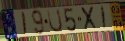5: (63, 7, 77, 33)
9: (31, 9, 46, 36)
I: (100, 5, 107, 30), (21, 11, 28, 36)
U: (46, 9, 64, 34)
X: (80, 6, 99, 32)
